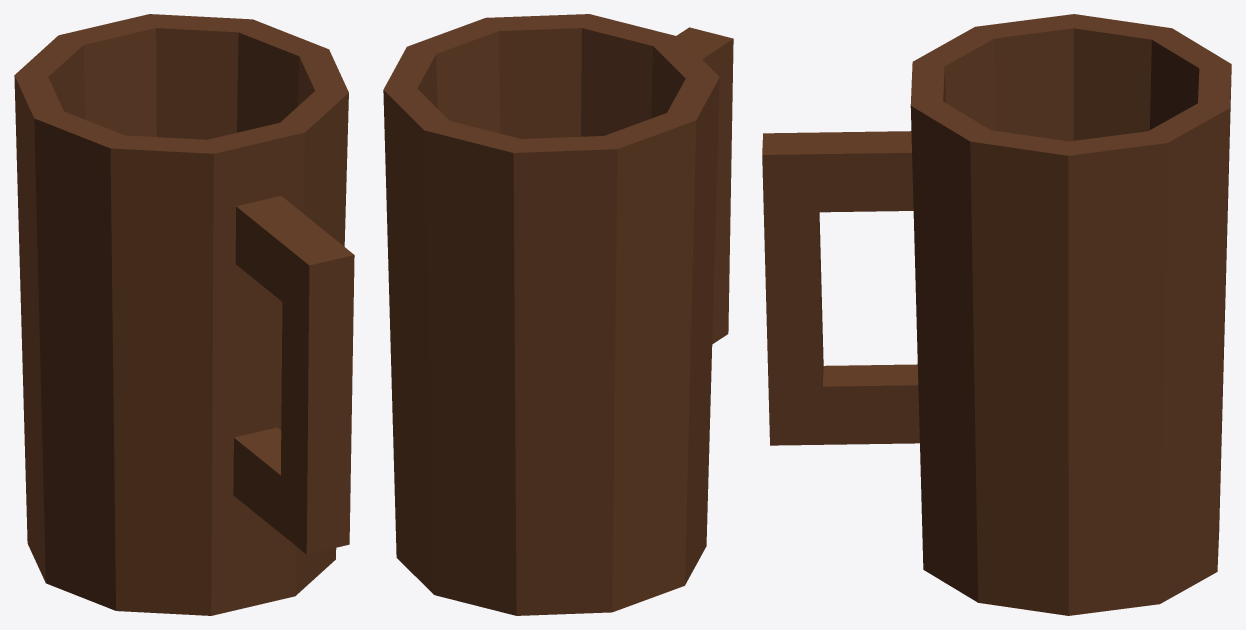
Rendered from tablecupwood02.obj.
The picture shows the model from 3 angles, left to right: view 1: azimuth 30°, elevation 25°; view 2: azimuth 150°, elevation 25°; view 3: azimuth 270°, elevation 25°; orthographic projection.
Parts seen in each view (by area): view 1: Cylinder.001_Cylinder; view 2: Cylinder.001_Cylinder; view 3: Cylinder.001_Cylinder.
Part boxes in pixels (bbox=[...]): Cylinder.001_Cylinder: bbox=[14, 14, 354, 615]; Cylinder.001_Cylinder: bbox=[383, 14, 733, 615]; Cylinder.001_Cylinder: bbox=[762, 14, 1231, 615].
Size of the model in its own units: 0.0941 by 0.144 by 0.1316.
